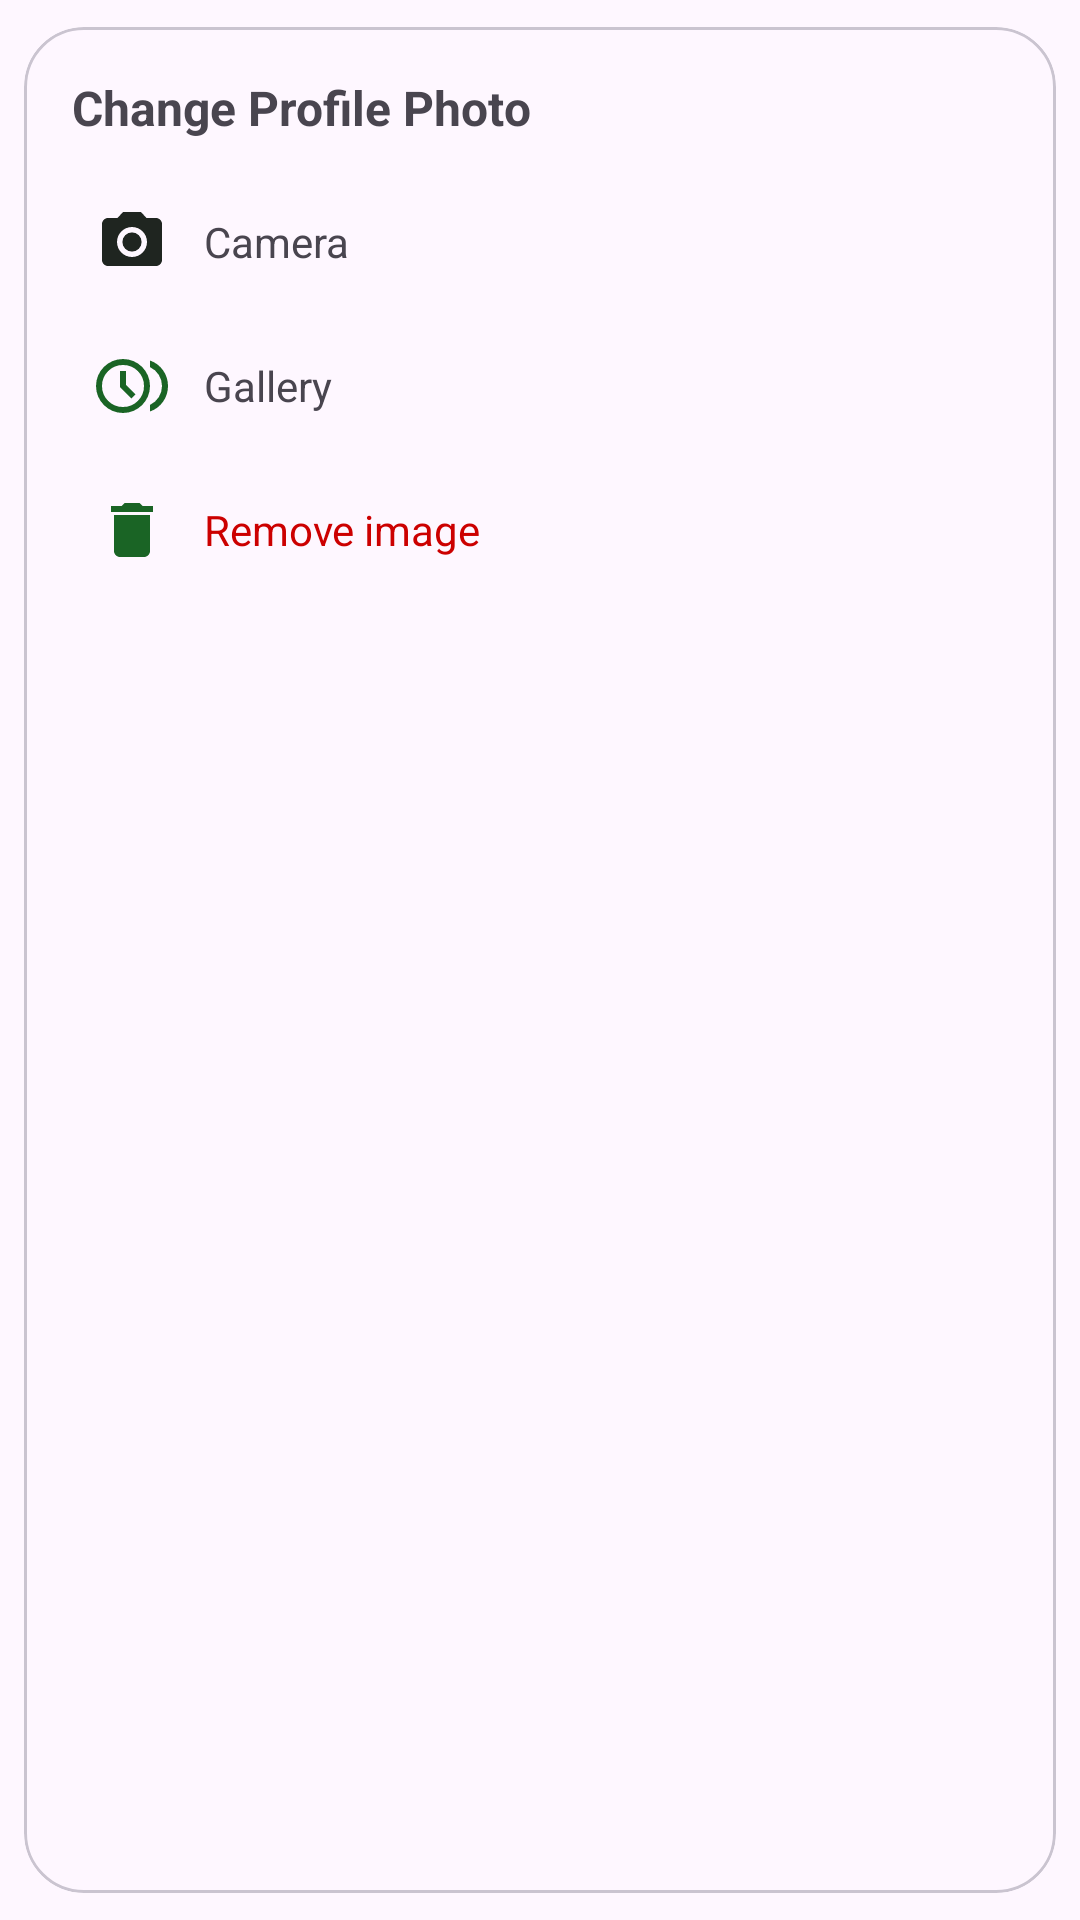

Icon bounding boxes for this 1080x1920 phone screenshot, format box=[x1, y1, x2, y2]:
delete: box=[111, 503, 153, 557]
